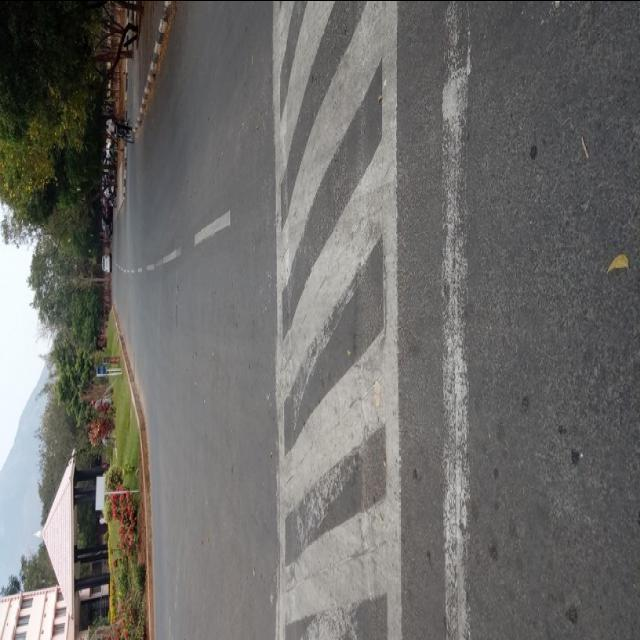speedbreaker: (264, 0, 410, 640)
